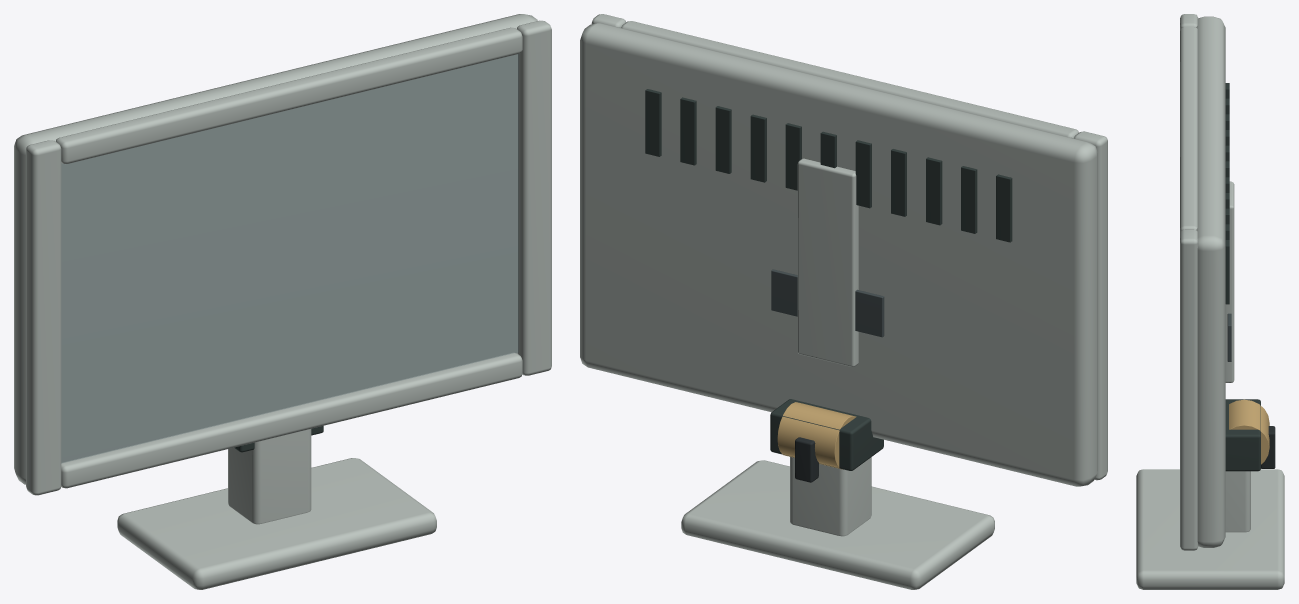
The model's file is monitor_lcd.glb.
The picture shows the model from 3 angles, left to right: view 1: azimuth 30°, elevation 25°; view 2: azimuth 150°, elevation 25°; view 3: azimuth 270°, elevation 25°; orthographic projection. The views are drawn at different scales.
Visible parts, largest first — view 1: monitor_lcd_Brushed_silver, monitor_lcd_Smoked_tempered_glass; view 2: monitor_lcd_Brushed_silver, monitor_lcd_Recesses_and_rubber, monitor_lcd_Brushed_warm_metal, monitor_lcd_Charcoal_shell, monitor_lcd_Soft_black_rubber; view 3: monitor_lcd_Brushed_silver, monitor_lcd_Recesses_and_rubber, monitor_lcd_Brushed_warm_metal, monitor_lcd_Soft_black_rubber, monitor_lcd_Charcoal_shell.
Boxes of the visible parts, x1,y1,x2,y2 form: monitor_lcd_Brushed_silver: (14, 14, 551, 589); monitor_lcd_Smoked_tempered_glass: (61, 54, 518, 462); monitor_lcd_Brushed_silver: (580, 14, 1107, 589); monitor_lcd_Recesses_and_rubber: (645, 89, 1012, 470); monitor_lcd_Brushed_warm_metal: (777, 402, 856, 469); monitor_lcd_Charcoal_shell: (771, 269, 884, 337); monitor_lcd_Soft_black_rubber: (795, 437, 818, 482); monitor_lcd_Brushed_silver: (1136, 14, 1284, 589); monitor_lcd_Recesses_and_rubber: (1225, 83, 1260, 471); monitor_lcd_Brushed_warm_metal: (1229, 399, 1269, 464); monitor_lcd_Soft_black_rubber: (1261, 426, 1275, 468); monitor_lcd_Charcoal_shell: (1227, 313, 1231, 361).
Size of the model in its own units: 1.6 by 1.35 by 0.44.
